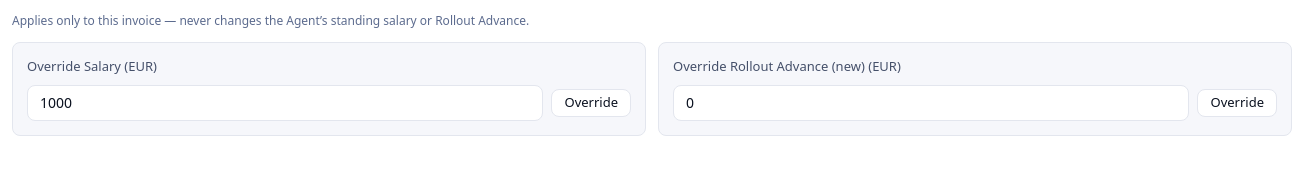
Test: AgentInvoiceOverrideControl › tells the Manager to refresh when the invoice is no longer awaiting approval (409)
The image size is (1292, 179).
Click the 1st button "Override" at x=591, y=102, box [552,88,631,116]
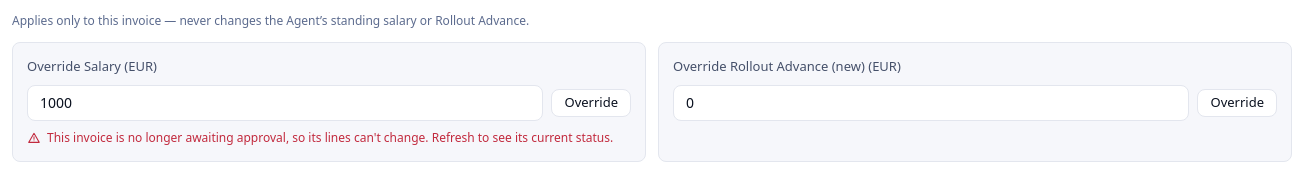
Check: the message shows "This invoice is no longer awaiting approval, so its lines can't change. Refresh to see its current status.", box [47,128,613,146]
